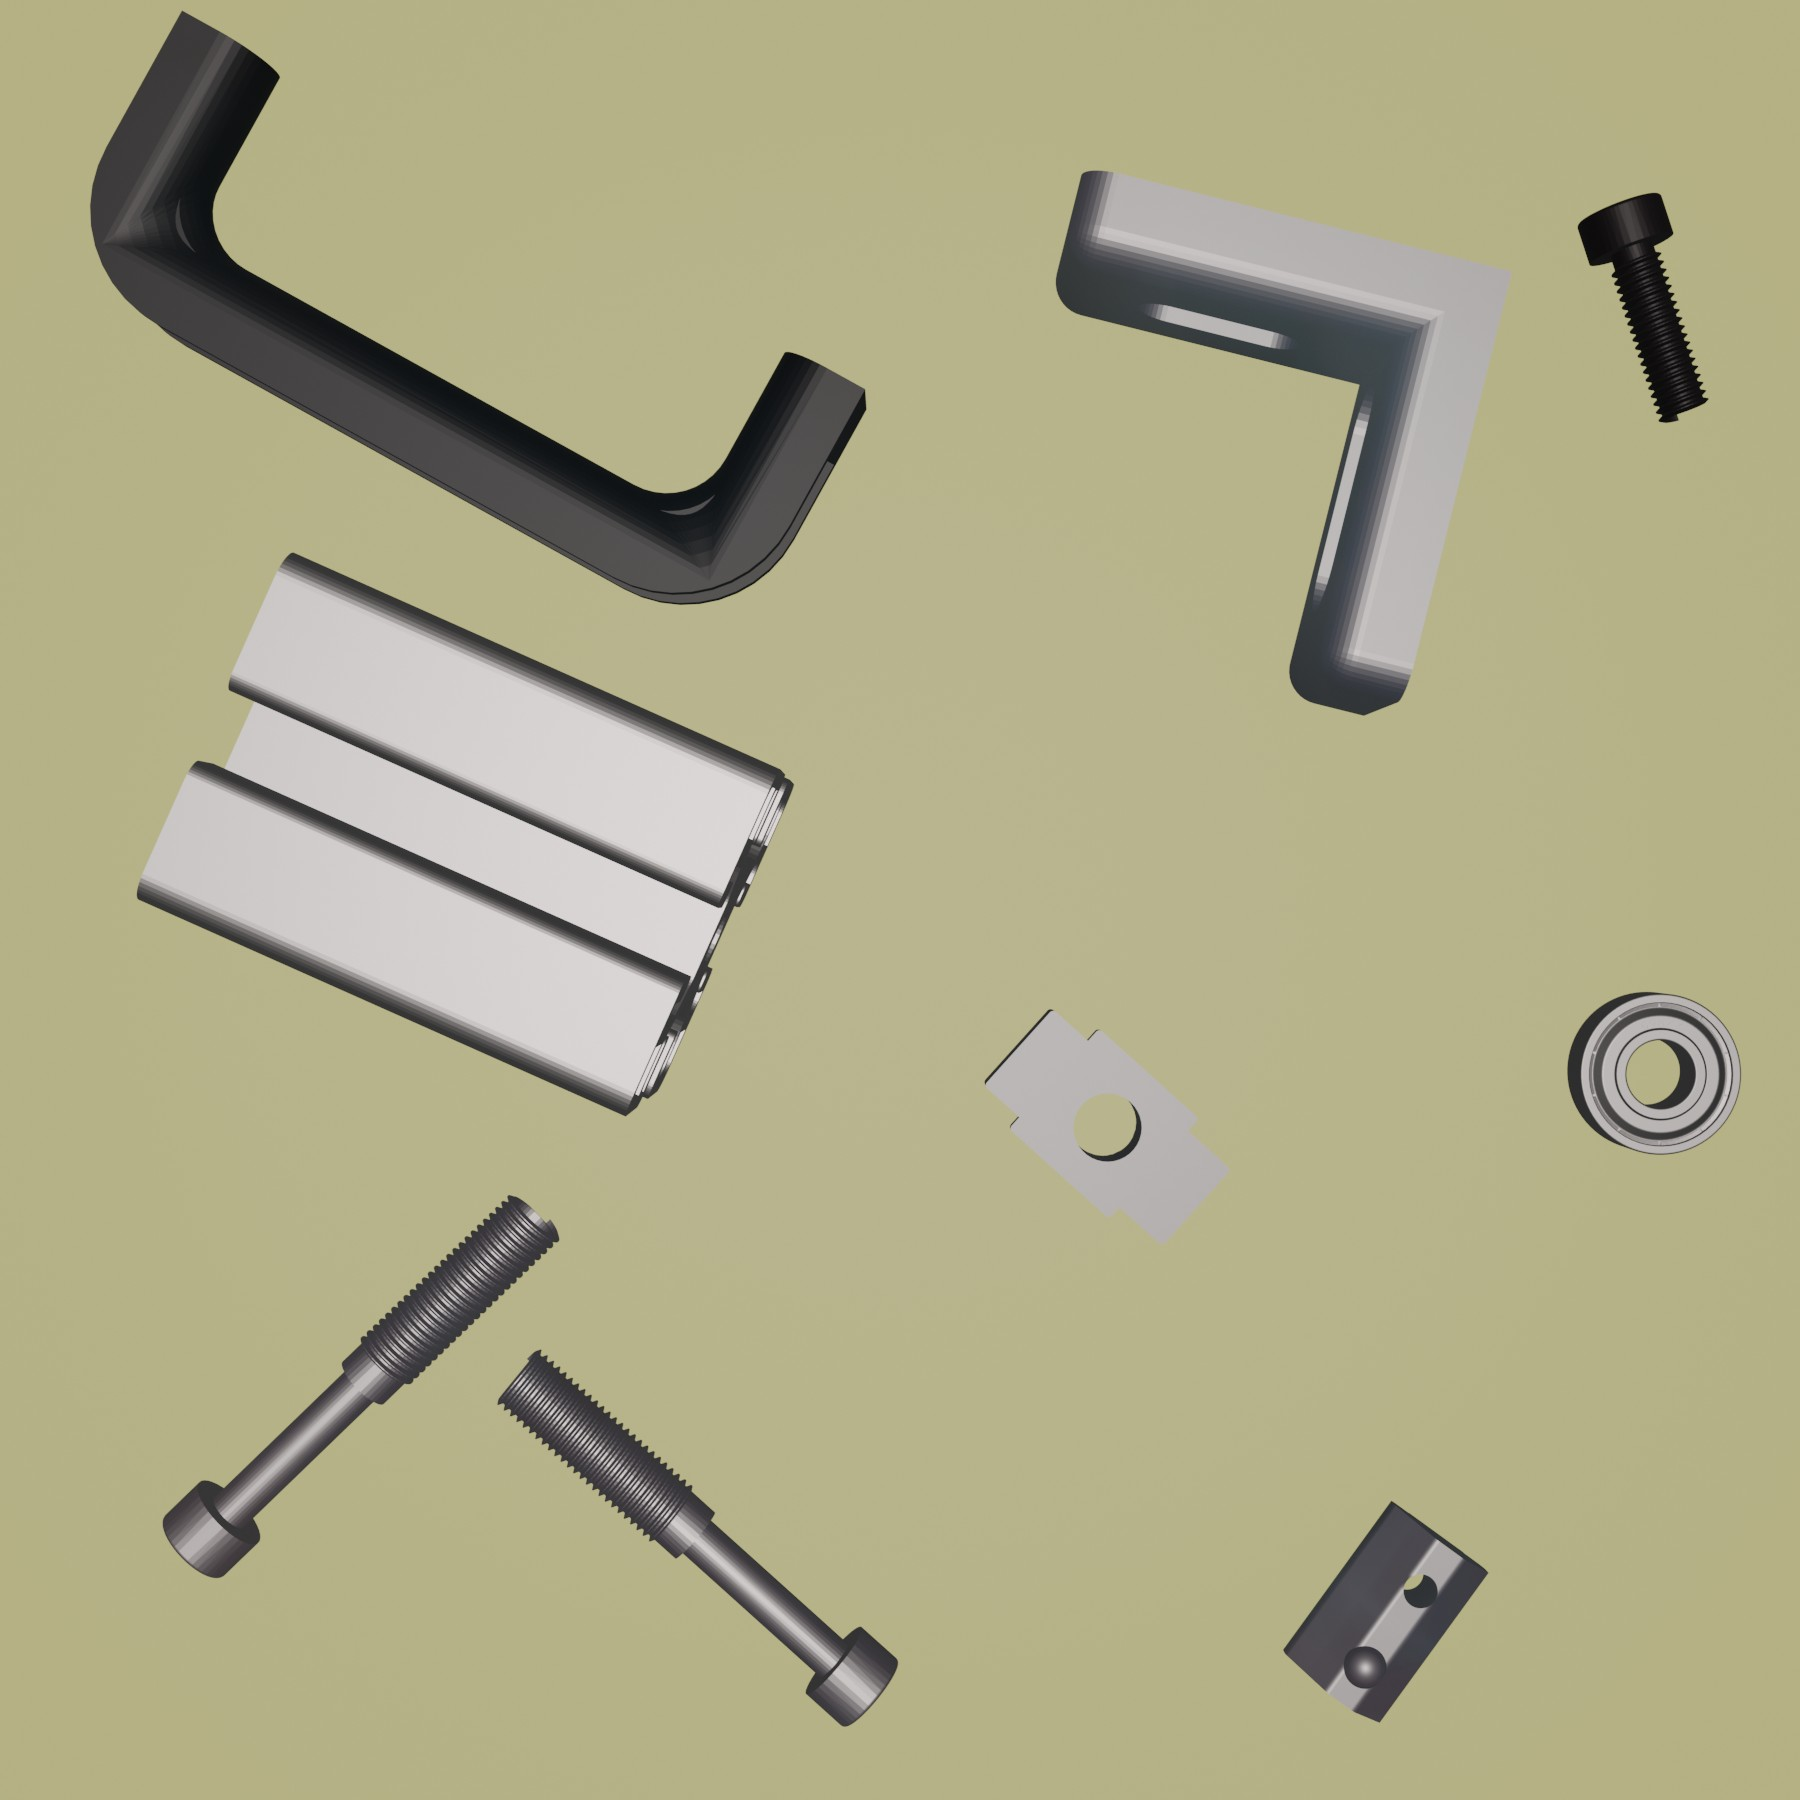Aluminium Extension: (130, 546, 796, 1119)
Ball Bearing: (1563, 989, 1746, 1159)
Multiwinkel: (1052, 163, 1516, 719)
Pull Handle: (86, 5, 870, 607)
Shoulder Socket Head Cap Screw: (162, 1188, 564, 1582), (496, 1347, 900, 1731)
Socket Head Cap Screw: (1574, 191, 1711, 429)
T Nut Square: (977, 1001, 1236, 1248)
T Spring Nut: (1279, 1497, 1490, 1726)
